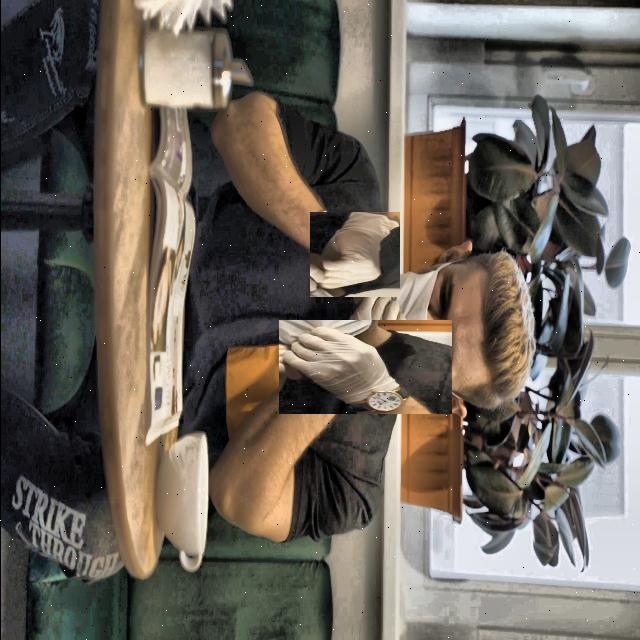gloved: (298, 300, 432, 434), (310, 210, 398, 298)
